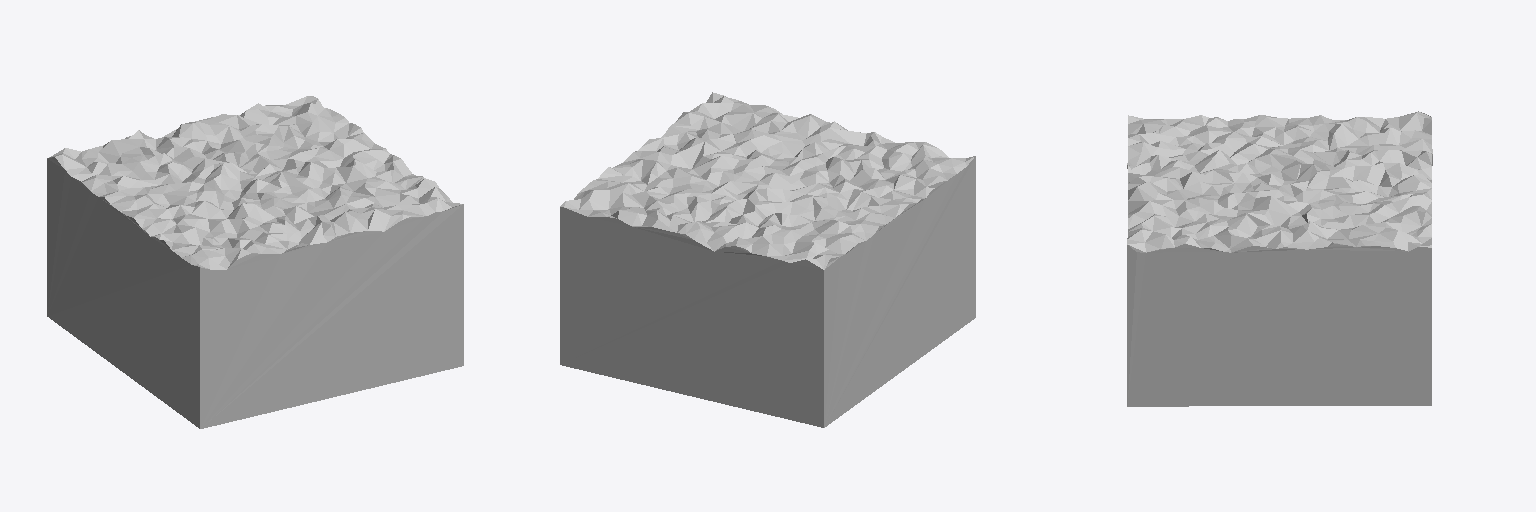
File: water_000019.obj
3 renders of one model, left to right at view 1: azimuth 30°, elevation 25°; view 2: azimuth 150°, elevation 25°; view 3: azimuth 270°, elevation 25°, orthographic.
Parts seen in each view (by area): view 1: Plane; view 2: Plane; view 3: Plane.
Boxes of the visible parts, box(x1,y1,x2,y2) form: Plane: box(47, 96, 463, 428); Plane: box(560, 92, 975, 427); Plane: box(1127, 111, 1432, 406).
Size of the model in its own units: 16.15 by 10.06 by 16.12.